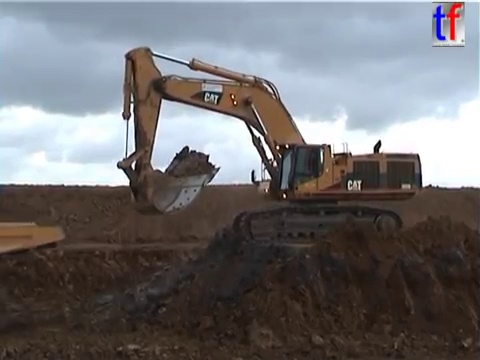excavator: (113, 43, 426, 247)
truck: (1, 218, 69, 342)
